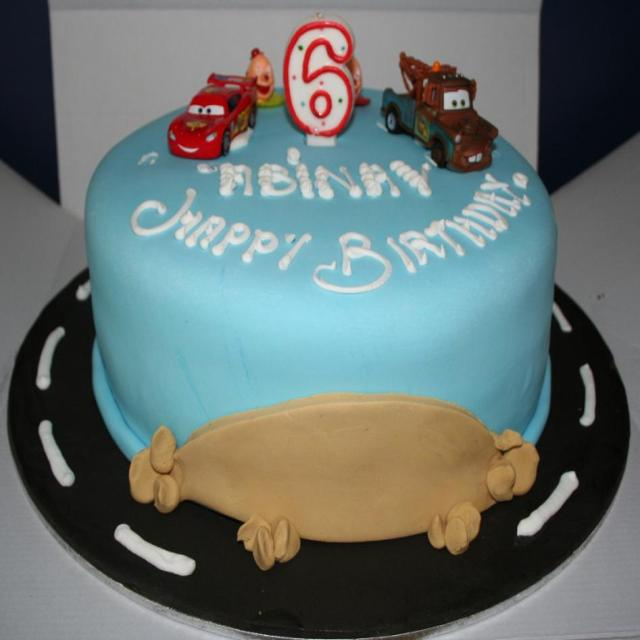Toy: (377, 47, 500, 174), (167, 72, 260, 159), (244, 46, 286, 109), (245, 46, 275, 101), (345, 55, 373, 108), (344, 54, 363, 100)
